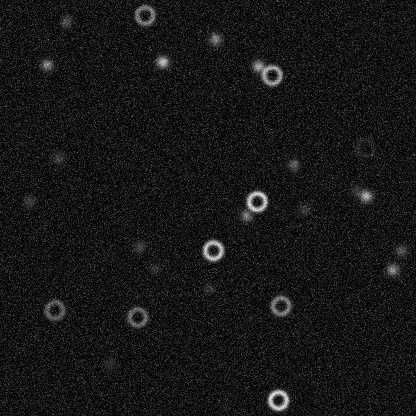Ring: (200, 238, 224, 262), (244, 189, 268, 213), (265, 387, 289, 411), (132, 3, 156, 27), (259, 63, 283, 87), (42, 297, 66, 321), (125, 304, 149, 328), (353, 135, 377, 159), (268, 293, 292, 317)
Spot: (250, 58, 266, 74), (238, 207, 254, 223), (50, 150, 66, 166), (101, 356, 117, 372), (348, 182, 364, 198), (207, 31, 223, 47), (130, 238, 146, 254), (285, 156, 301, 172), (357, 187, 373, 203), (384, 261, 400, 277), (154, 53, 170, 69), (38, 56, 54, 72), (200, 280, 216, 296), (146, 259, 162, 275), (21, 193, 37, 209), (392, 242, 408, 258), (58, 13, 74, 29), (296, 201, 312, 217)
